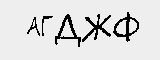А: (24, 15, 39, 38)
Г: (39, 13, 56, 37)
Д: (54, 13, 81, 47)
Ж: (80, 12, 114, 45)
Ф: (112, 10, 142, 46)
